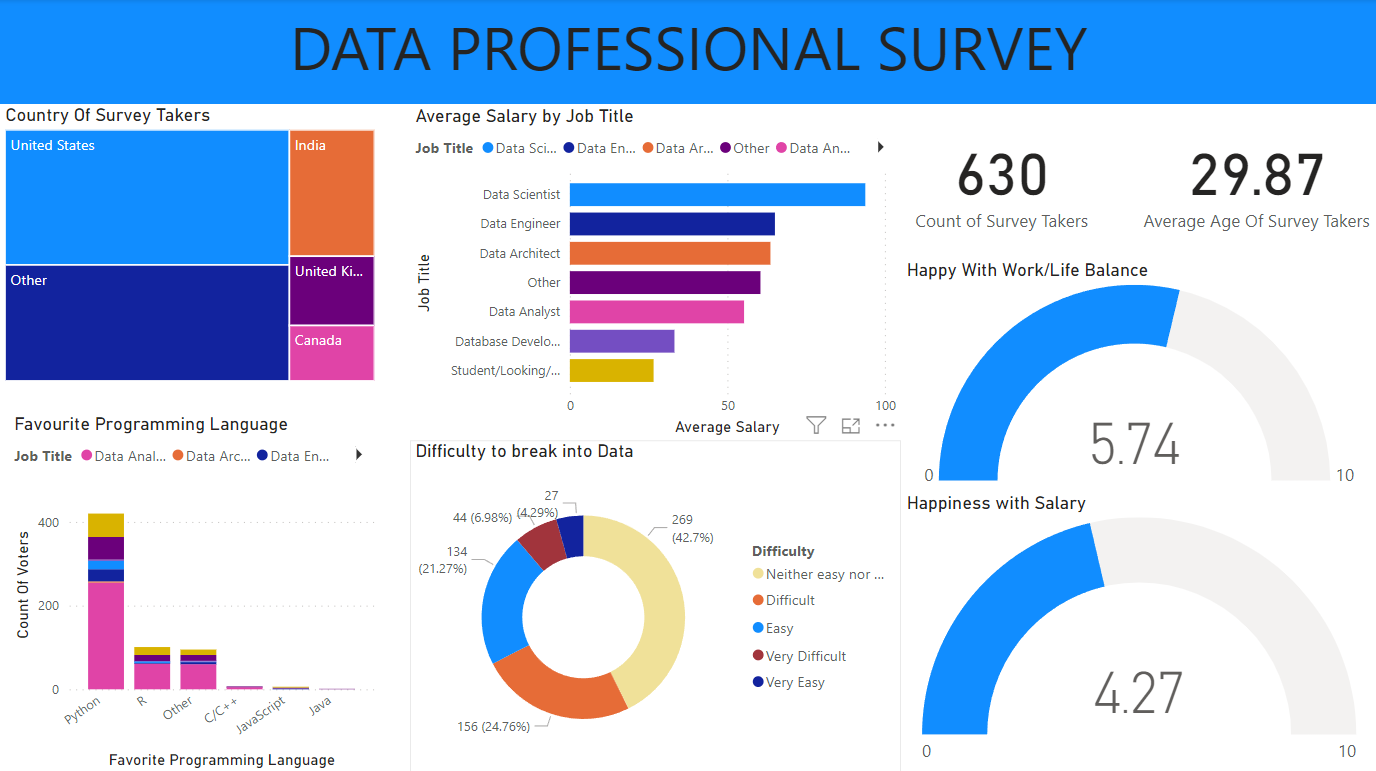

The page's visual inventory and layout, read from the dashboard file:
{"tool":"powerbi","page":{"name":"Page 1","canvas":[1280,720],"ordinal":0},"visuals":[{"type":"textbox","box":[0,0,1280.5,97.6],"z":0},{"type":"card","fields":{"Values":["CountNonNull(Data Professional Survey.Unique ID)"]},"box":[806.4,97.6,249.8,139.4],"z":1000},{"type":"card","fields":{"Values":["Avg(Data Professional Survey.Q10 - Current Age)"]},"box":[1056.2,97.6,224.3,139.4],"z":2000},{"type":"barChart","title":"Average Salary by Job Title","fields":{"Category":["Data Professional Survey.Q1 - Which Title Best Fits your Current Role?.1"],"Y":["Avg(Data Professional Survey.Average_Salary)"],"Series":["Data Professional Survey.Q1 - Which Title Best Fits your Current Role?.1"]},"box":[381.1,98.8,456.6,311.4],"z":3000},{"type":"columnChart","title":"Favourite Programming Language","fields":{"Category":["Data Professional Survey.Q5 - Favorite Programming Language.1"],"Y":["CountNonNull(Data Professional Survey.Unique ID)"],"Series":["Data Professional Survey.Q1 - Which Title Best Fits your Current Role?.1"]},"box":[8.1,384.6,345.1,335.8],"z":4000},{"type":"treemap","title":"Country Of Survey Takers","fields":{"Group":["Data Professional Survey.Q11 - Which Country do you live in?.1"],"Values":["CountNonNull(Data Professional Survey.Q11 - Which Country do you live in?.1)"]},"box":[0,97.6,353.2,262.6],"z":5000},{"type":"gauge","title":"Happiness with Salary","fields":{"Y":["Avg(Data Professional Survey.Q6 - How Happy are you in your Current Position with the following? (Salary))"],"MinValue":["Min(Data Professional Survey.Q6 - How Happy are you in your Current Position with the following? (Salary))"],"MaxValue":["Max(Data Professional Survey.Q6 - How Happy are you in your Current Position with the following? (Salary))"]},"box":[837.8,457.8,442.7,262.6],"z":6000},{"type":"gauge","title":"Happy With Work/Life Balance","fields":{"Y":["Avg(Data Professional Survey.Q6 - How Happy are you in your Current Position with the following? (Work/Life Balance))"],"MaxValue":["Max(Data Professional Survey.Q6 - How Happy are you in your Current Position with the following? (Work/Life Balance))1"],"MinValue":["Min(Data Professional Survey.Q6 - How Happy are you in your Current Position with the following? (Work/Life Balance))2"]},"box":[837.8,241.7,442.7,216.1],"z":7000},{"type":"donutChart","title":"Difficulty to break into Data","fields":{"Category":["Data Professional Survey.Q7 - How difficult was it for you to break into Data?"],"Y":["CountNonNull(Data Professional Survey.Q7 - How difficult was it for you to break into Data?)"]},"box":[381.1,410.2,456.6,310.2],"z":8000}]}

Visuals, with their boxes in screenshot pixels (x1, y1, x2, y2), scaled from the page's 1280x720 canvas onto the 1376x771 screenshot:
textbox: 0/0/1375/105
card - CountNonNull(Data Professional Survey.Unique ID): 867/105/1135/254
card - Avg(Data Professional Survey.Q10 - Current Age): 1135/105/1375/254
"Average Salary by Job Title" barChart: 410/106/901/439
"Favourite Programming Language" columnChart: 9/412/380/770
"Country Of Survey Takers" treemap: 0/105/380/386
"Happiness with Salary" gauge: 901/490/1375/770
"Happy With Work/Life Balance" gauge: 901/259/1375/490
"Difficulty to break into Data" donutChart: 410/439/901/770
